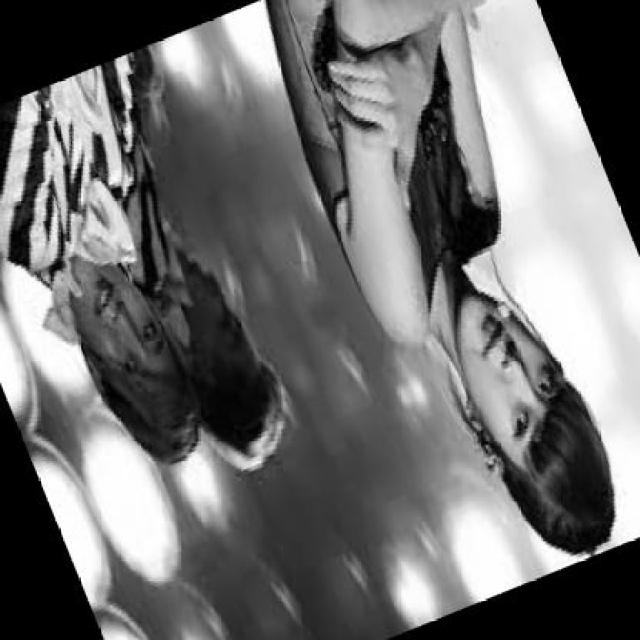earphone: (459, 424, 517, 488)
